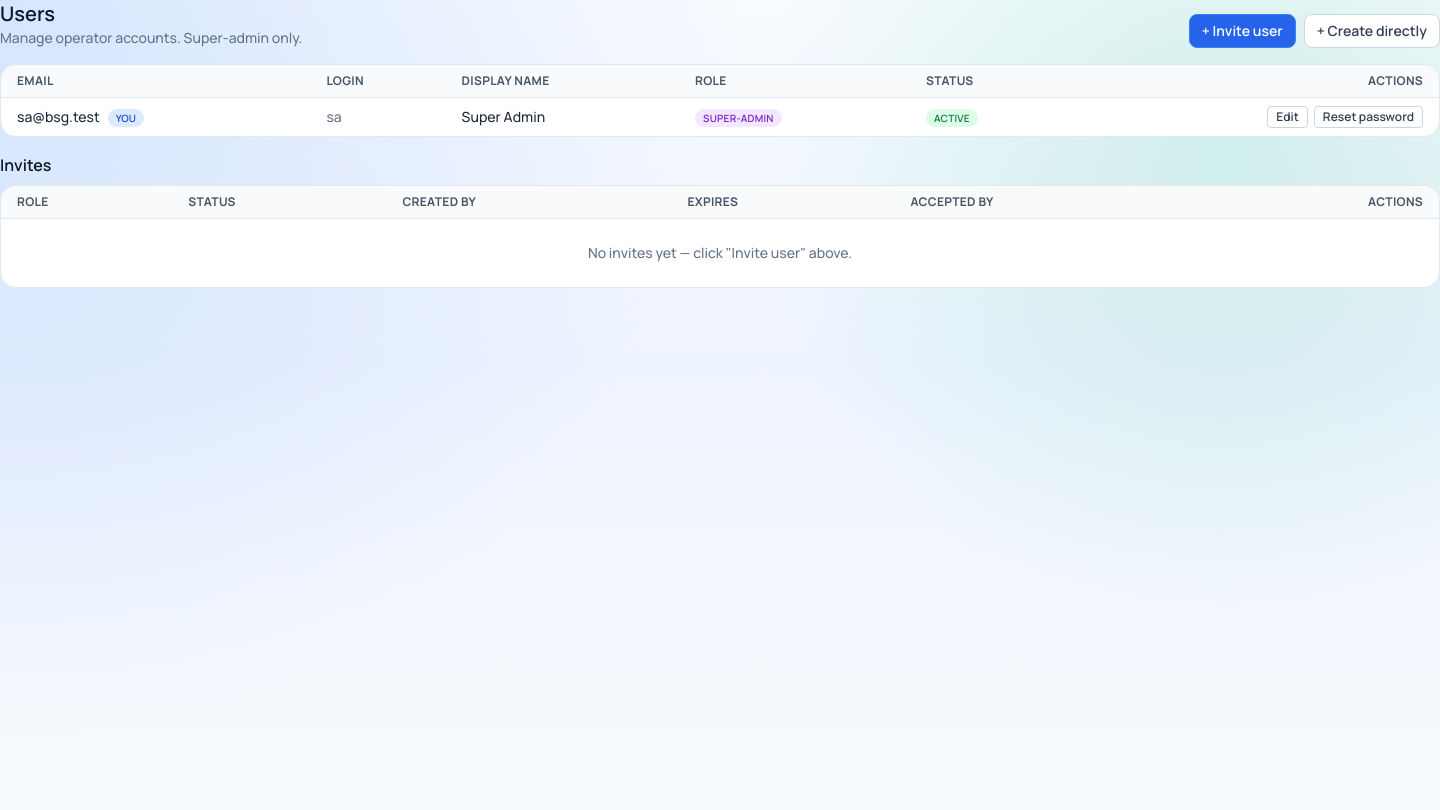
Test: AdminUsersPage — Create modal › renders an inline error on CONFLICT_USER_EXISTS
Check: the text "sa@bsg.test" is shown, box left=17, top=106, right=100, bottom=126
Click the button "+ Create directly" at (1372, 31), box left=1304, top=14, right=1439, bottom=48
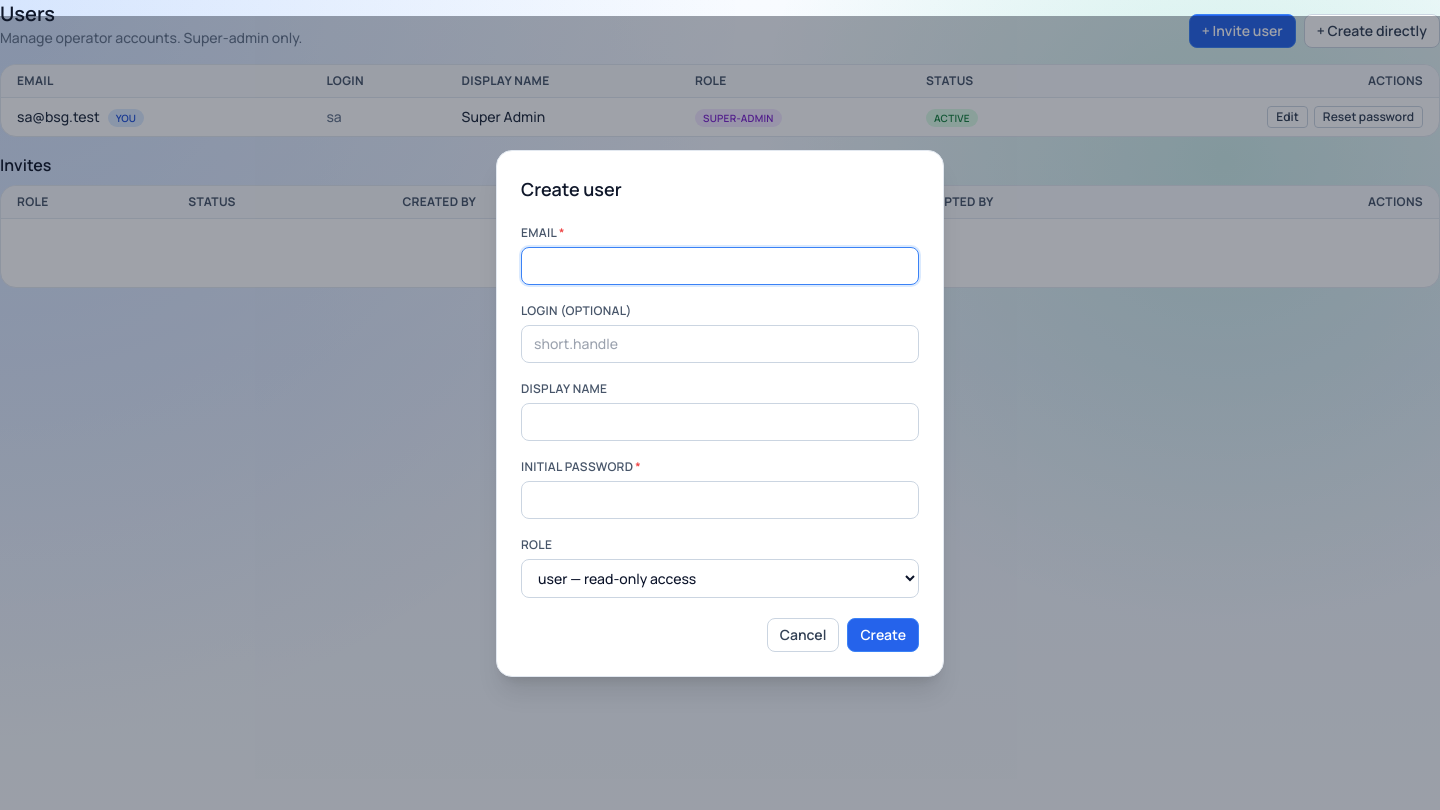
Type "dup@bsg.test" into the field labelled "Email*" at (720, 266), box left=521, top=246, right=919, bottom=284
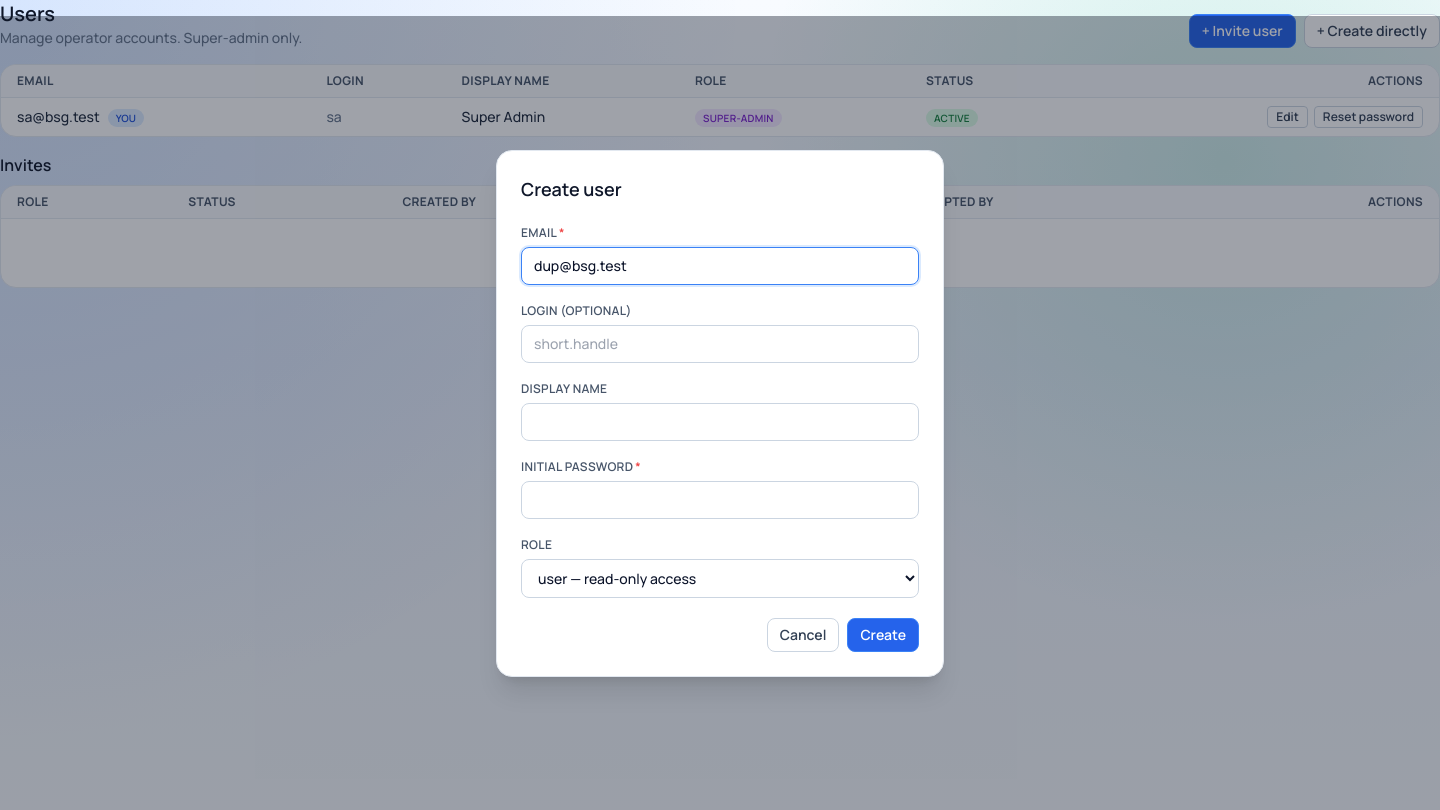
Type "anyOldThing9" into the field labelled "Initial password*" at (720, 500), box left=521, top=480, right=919, bottom=518
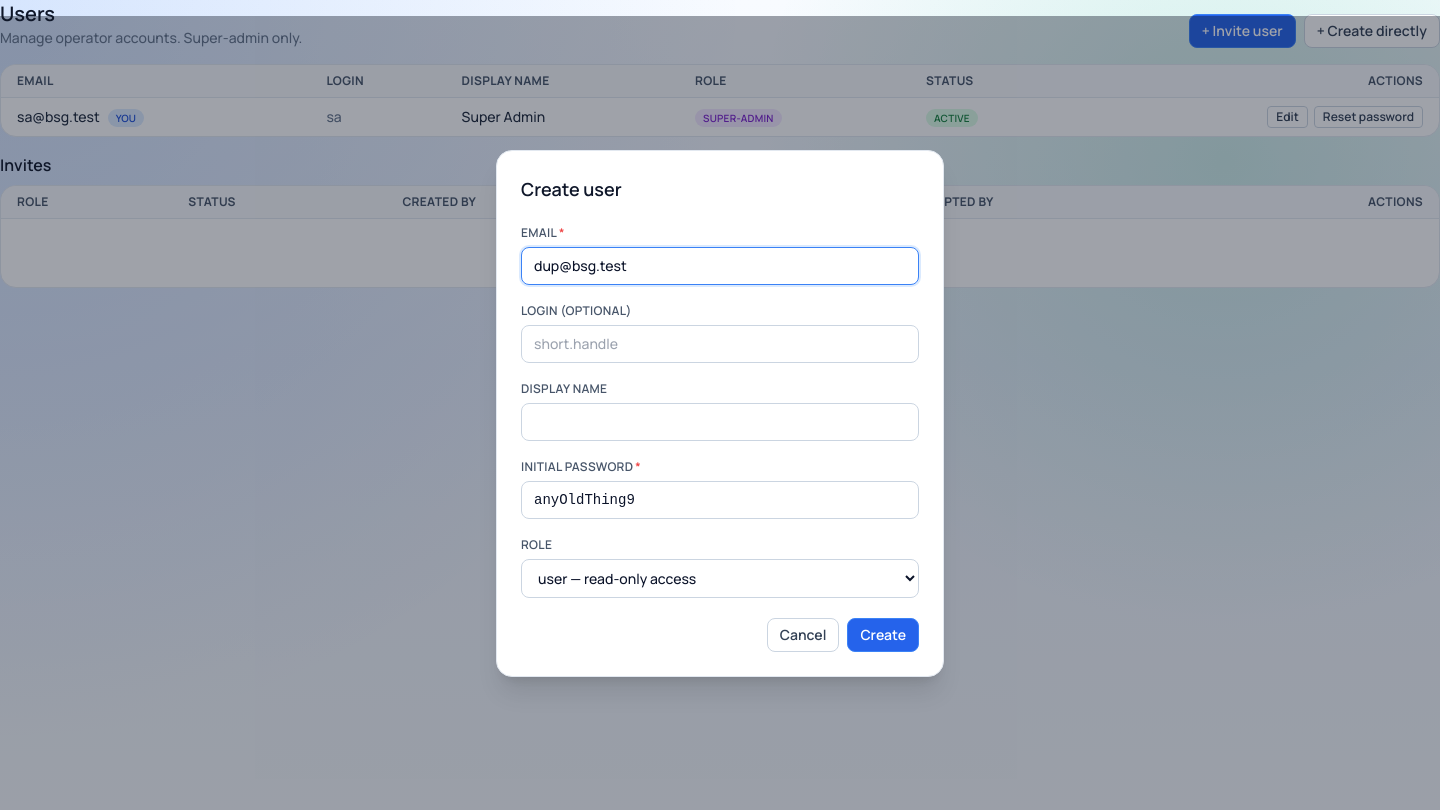
Click the button "Create" at (883, 634), box left=847, top=618, right=919, bottom=652
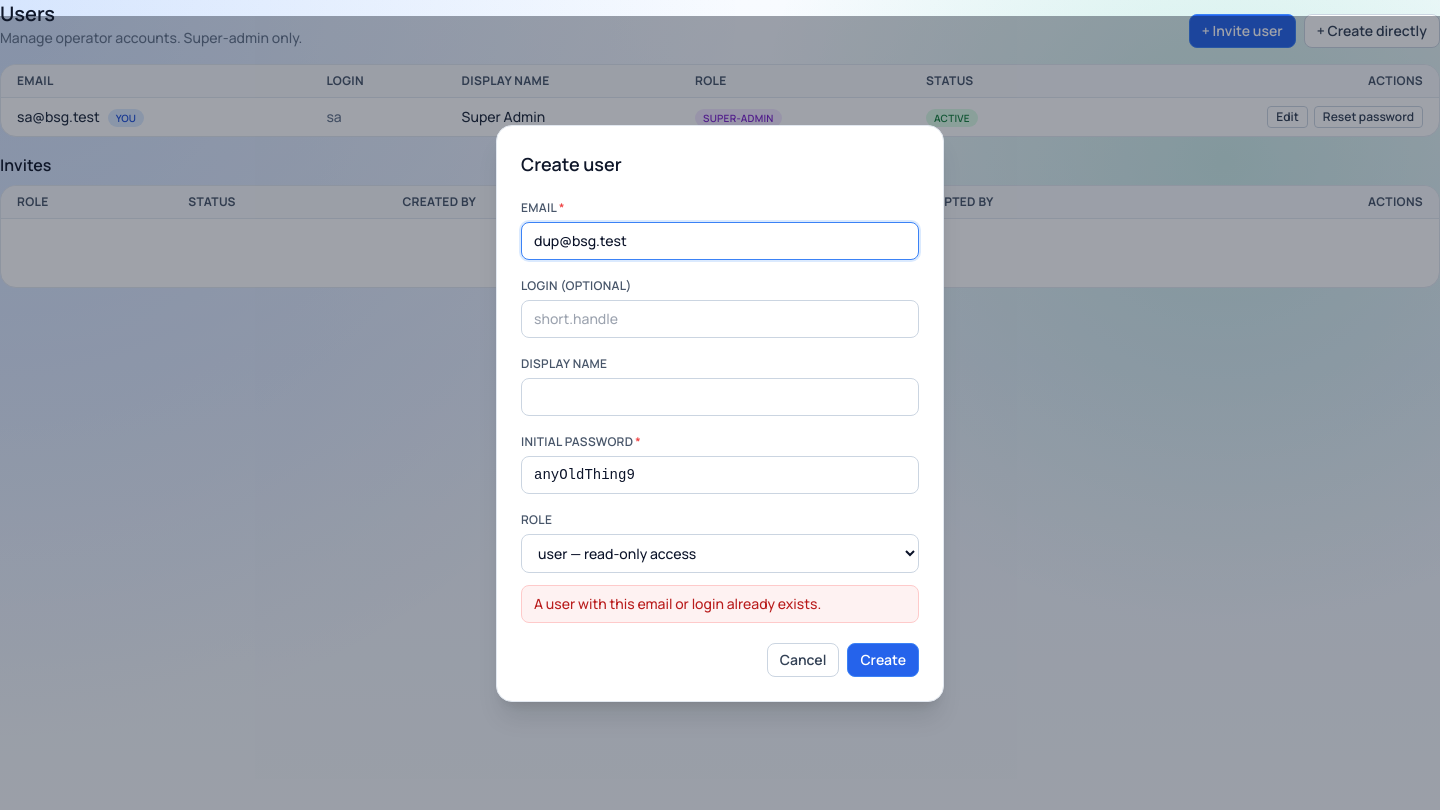
Check: the text "A user with this email or login already exists." is shown, box left=521, top=584, right=919, bottom=622
